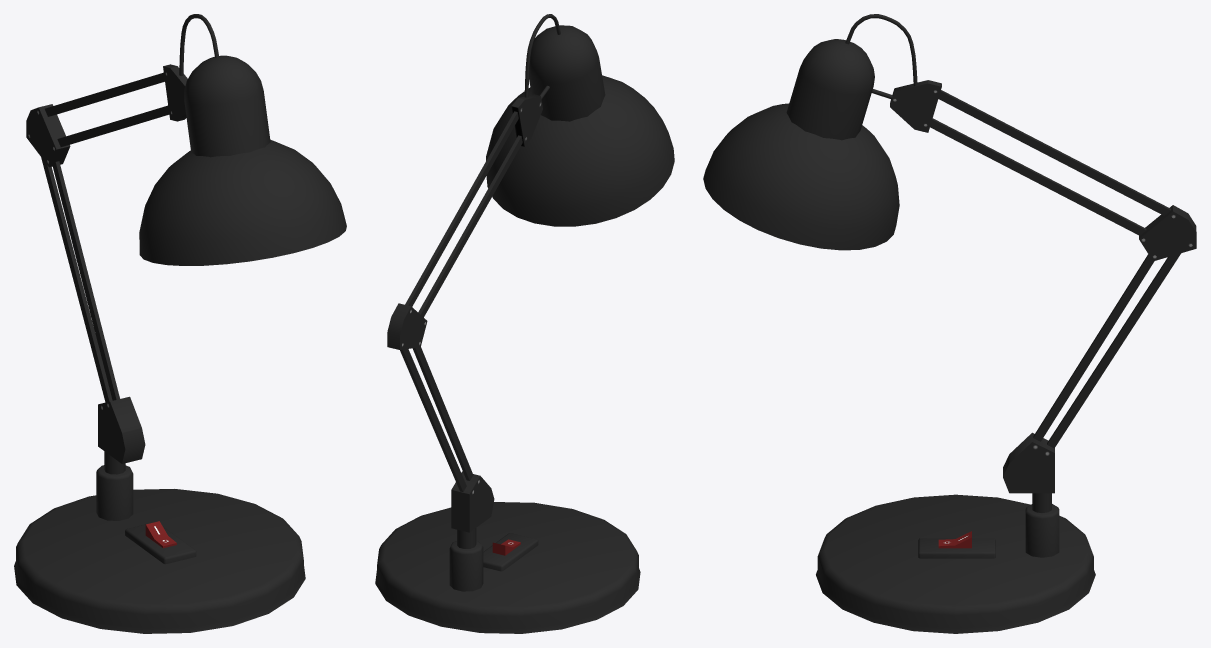
The model's file is desk lamp.FBX.
3 views of the same model, side by side, from view 1: azimuth 30°, elevation 25°; view 2: azimuth 150°, elevation 25°; view 3: azimuth 270°, elevation 25° (orthographic). The views are drawn at different scales.
Parts seen in each view (by area): view 1: desk lamp; view 2: desk lamp; view 3: desk lamp.
Part boxes in pixels (x1,y1,x2,y2): desk lamp: (14,14,346,633); desk lamp: (375,14,674,633); desk lamp: (703,14,1196,633).
Bounding box in the file's own units: 8.66 × 15.25 × 19.12.
Materials: 1 (1 with a texture image).
